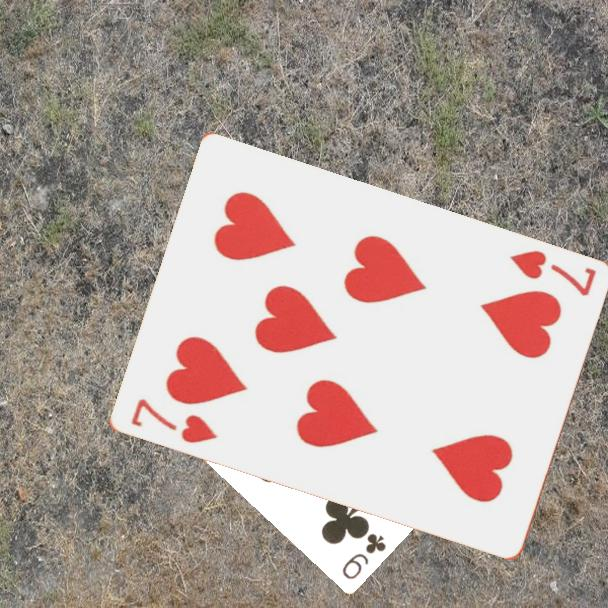c09: (338, 529, 389, 582)
h07: (505, 247, 599, 300), (127, 395, 220, 447)
